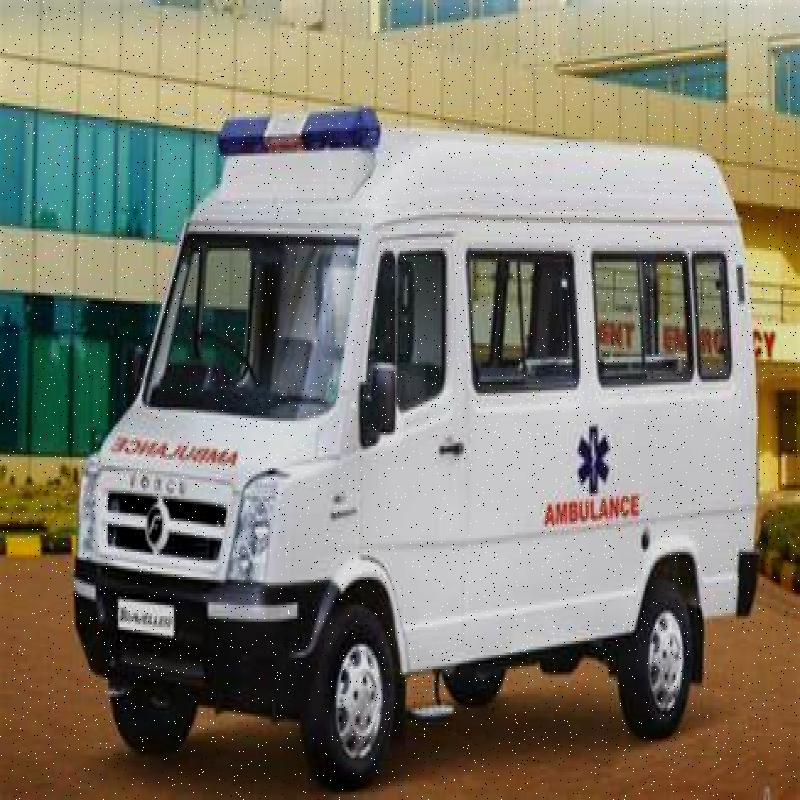AmbulanceSiren: (209, 91, 379, 185)
